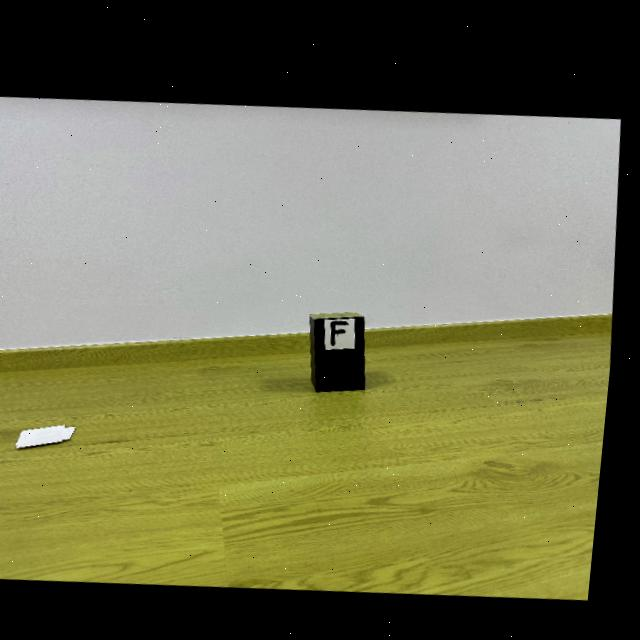F: (337, 314, 354, 340)
